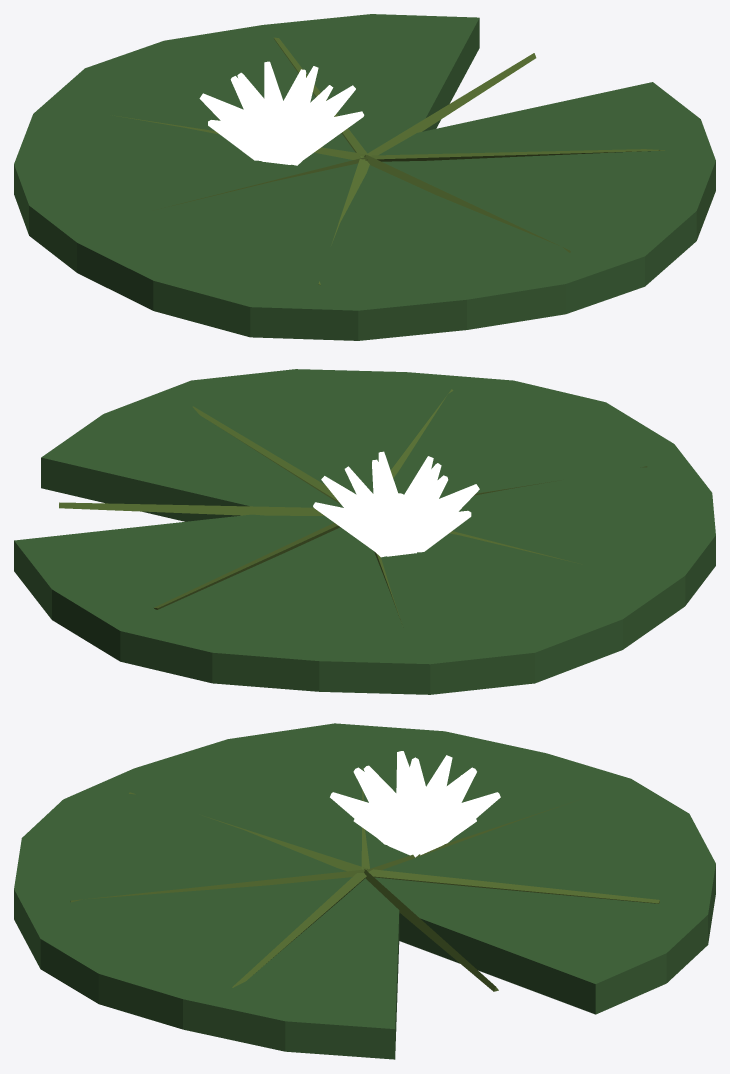
File: lily.glb
The picture shows the model from 3 angles, top to bottom: view 1: azimuth 30°, elevation 25°; view 2: azimuth 150°, elevation 25°; view 3: azimuth 270°, elevation 25°; orthographic projection.
Parts seen in each view (by area): view 1: Lily, Flower; view 2: Lily, Flower; view 3: Lily, Flower.
Part boxes in pixels (<box>): Lily: <box>14,14,715,340</box>; Flower: <box>199,61,364,165</box>; Lily: <box>14,369,715,694</box>; Flower: <box>313,451,479,557</box>; Lily: <box>14,723,715,1059</box>; Flower: <box>330,751,500,857</box>.
Bounding box in the file's own units: 0.8369 × 0.1482 × 0.8369.
